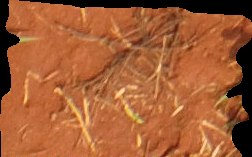soil: (1, 1, 248, 156)
